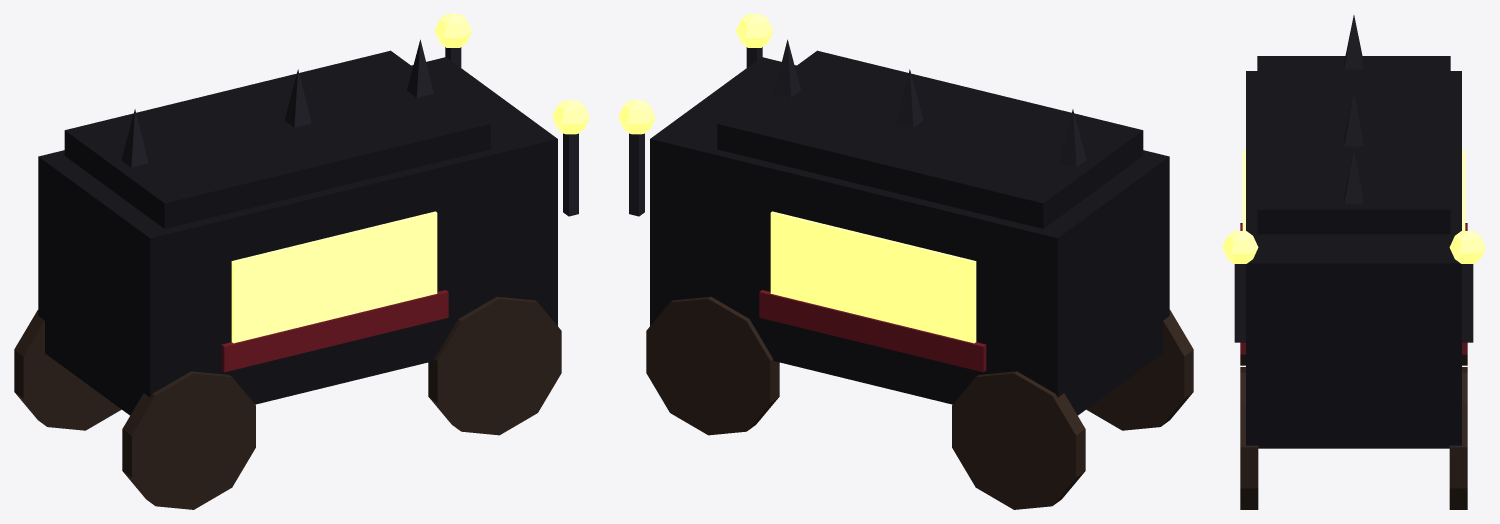
The model's file is prop-hearse.glb.
3 views of the same model, side by side, from view 1: azimuth 30°, elevation 25°; view 2: azimuth 150°, elevation 25°; view 3: azimuth 270°, elevation 25° (orthographic). The views are drawn at different scales.
Parts seen in each view (by area): view 1: cw_paint, cw_glow; view 2: cw_paint, cw_glow; view 3: cw_paint, cw_glow.
Boxes of the visible parts, x1=… form: cw_paint: x1=14, y1=39, x2=578, y2=509; cw_glow: x1=231, y1=14, x2=589, y2=343; cw_paint: x1=629, y1=39, x2=1193, y2=509; cw_glow: x1=618, y1=14, x2=976, y2=343; cw_paint: x1=1234, y1=15, x2=1473, y2=509; cw_glow: x1=1222, y1=150, x2=1485, y2=263.
Bounding box in the file's own units: 2.22 × 1.68 × 1.16.
